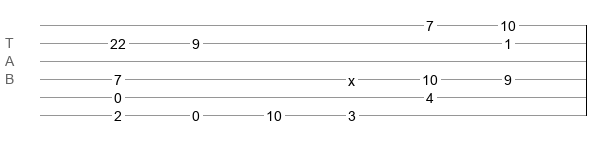0: (114, 90, 122, 100), (192, 108, 200, 118)
1: (504, 36, 512, 46)
10: (266, 108, 282, 118), (422, 72, 438, 82), (500, 18, 516, 28)
2: (114, 108, 122, 118)
22: (110, 36, 126, 46)
3: (348, 108, 356, 118)
4: (426, 90, 434, 100)
7: (114, 72, 122, 82), (426, 18, 434, 28)
9: (192, 36, 200, 46), (504, 72, 512, 82)
x: (348, 73, 355, 81)
